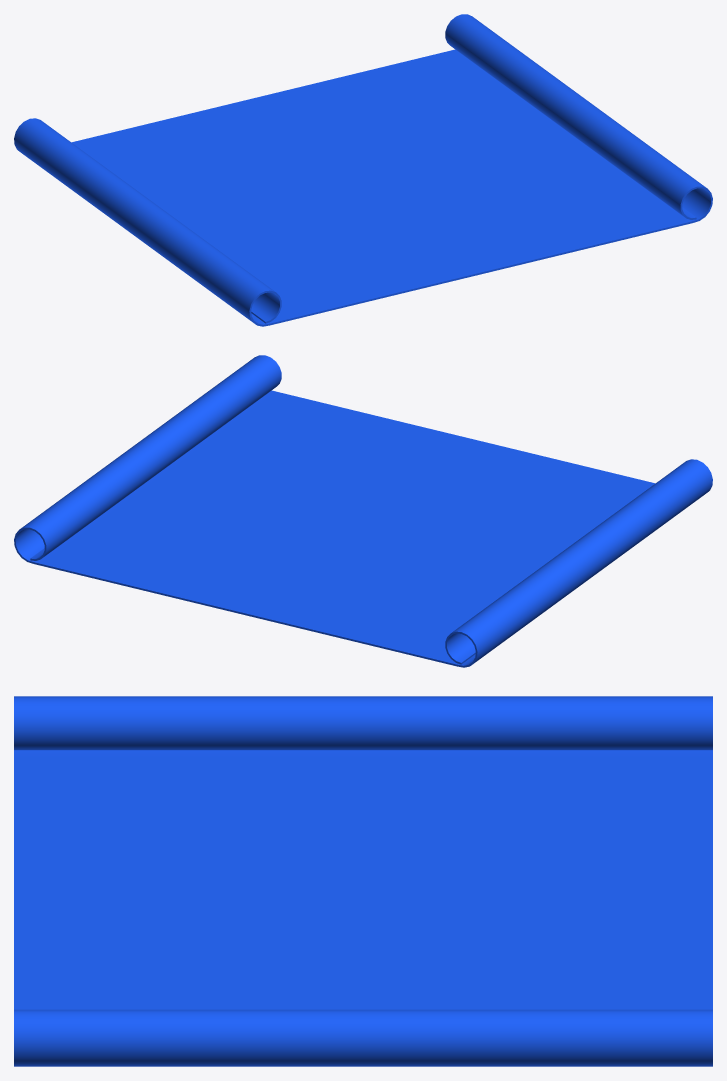
The model's file is SM_Blueprint_01.FBX.
3 views of the same model, one above another, from view 1: azimuth 30°, elevation 25°; view 2: azimuth 150°, elevation 25°; view 3: azimuth 270°, elevation 25° (orthographic). The views are drawn at different scales.
Parts seen in each view (by area): view 1: Plane001; view 2: Plane001; view 3: Plane001.
Part boxes in pixels (x1,y1,x2,y2): Plane001: [14, 14, 712, 326]; Plane001: [14, 355, 712, 667]; Plane001: [14, 696, 712, 1066].
Bounding box in the file's own units: 55.68 × 4.16 × 48.98.
